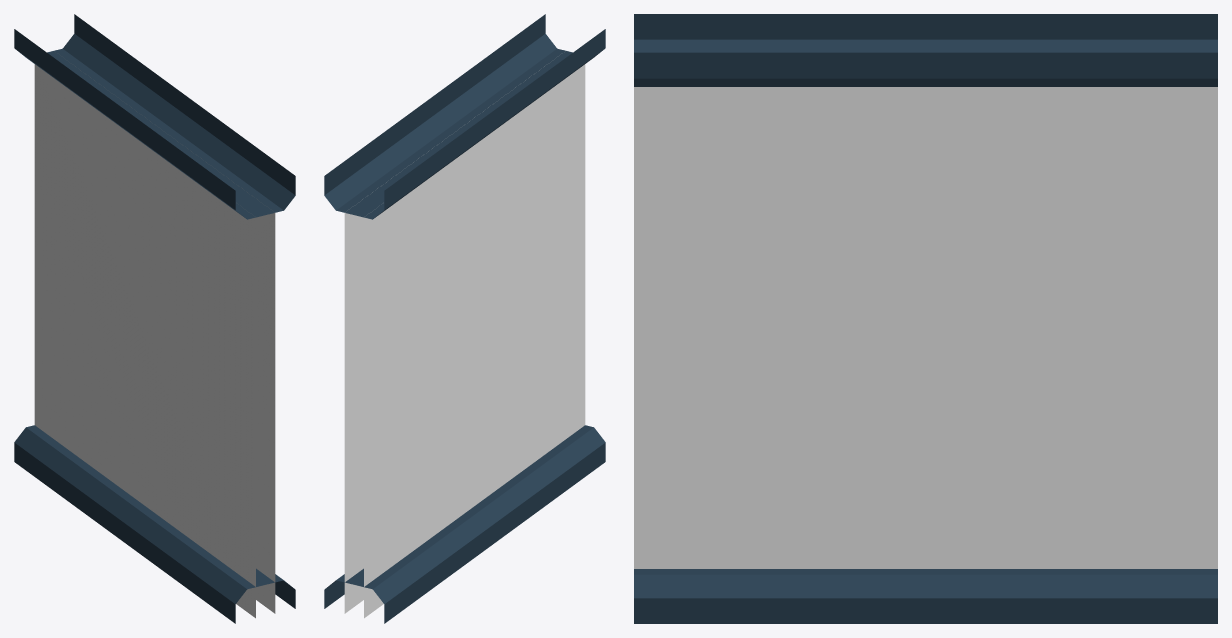
Rendered from SM_WallModule.fbx.
3 views of the same model, side by side, from view 1: azimuth 30°, elevation 25°; view 2: azimuth 150°, elevation 25°; view 3: azimuth 270°, elevation 25° (orthographic). The views are drawn at different scales.
Parts seen in each view (by area): view 1: Cube; view 2: Cube; view 3: Cube.
Boxes of the visible parts, box(x1,y1,x2,y2) form: Cube: box(14, 14, 295, 623); Cube: box(324, 14, 605, 623); Cube: box(634, 14, 1217, 623).
Size of the model in its own units: 200 by 31.37 by 216.
